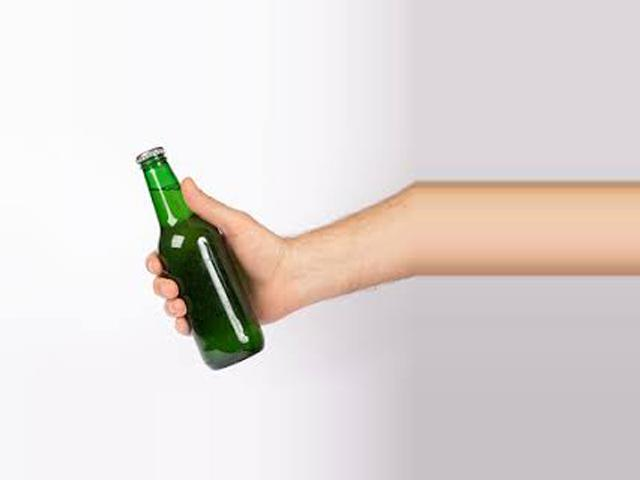beer: (137, 146, 264, 368)
